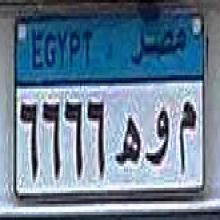6: (86, 97, 108, 180), (18, 97, 39, 181), (64, 97, 84, 181), (41, 98, 61, 180)
haa: (114, 112, 142, 180)
meem: (176, 98, 197, 178)
waw: (144, 103, 170, 175)
